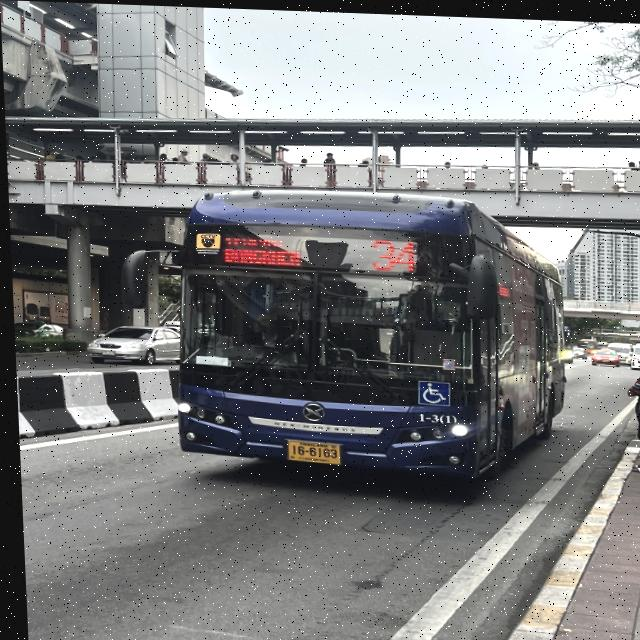Bus-Line-Number: (365, 231, 419, 275)
Destination-Sign-Normal: (218, 228, 309, 269)
TSB-Bus: (163, 184, 569, 483)
